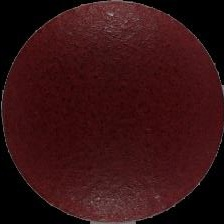61919-518: (0, 0, 224, 224)
